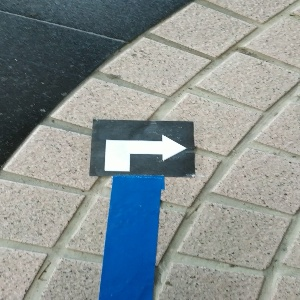right: (90, 119, 195, 177)
